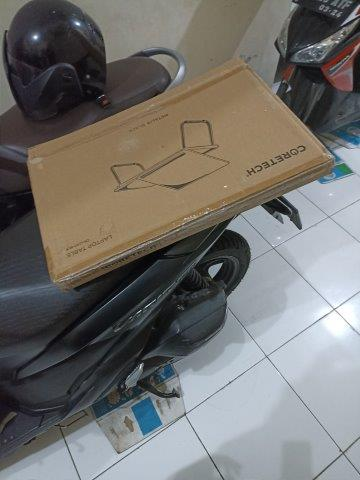kardus: (30, 61, 334, 291)
